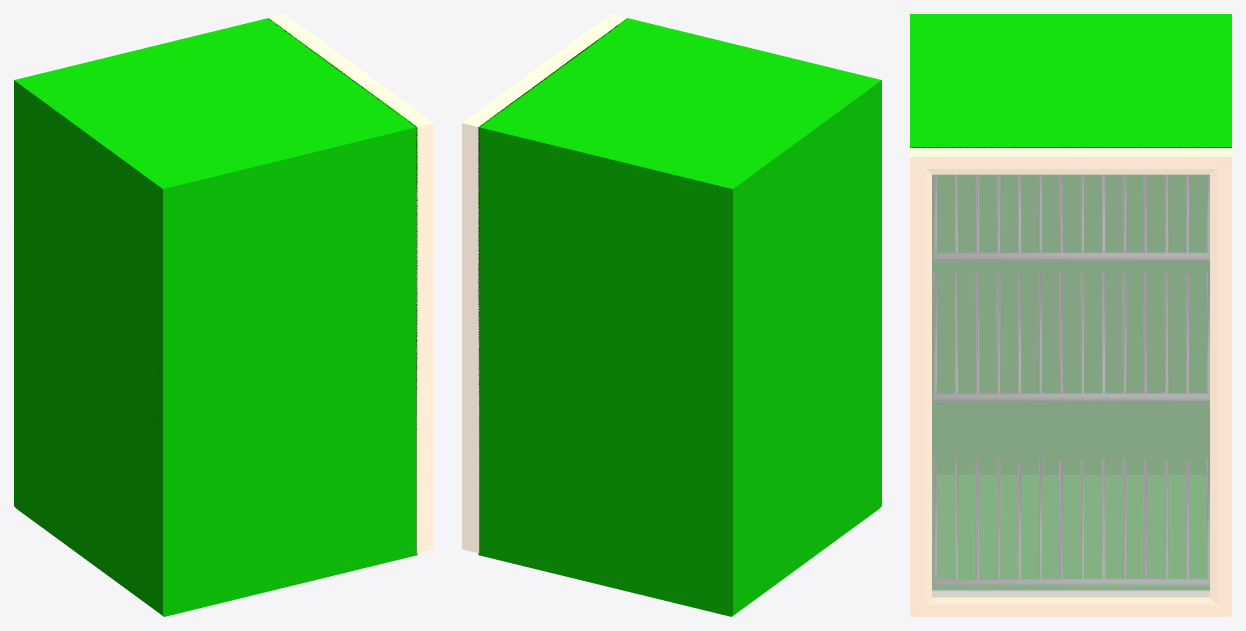
Rendered from Fridge_Edited_NoCans.gltf.
3 renders of one model, left to right at view 1: azimuth 30°, elevation 25°; view 2: azimuth 150°, elevation 25°; view 3: azimuth 270°, elevation 25°, orthographic. The views are drawn at different scales.
Parts seen in each view (by area): view 1: fridge_17; view 2: fridge_17; view 3: fridge_17, fridge_17.004, fridge_17.005.
Boxes of the visible parts, x1,y1,x2,y2 form: fridge_17: [14, 14, 433, 616]; fridge_17: [462, 14, 881, 616]; fridge_17: [910, 14, 1231, 616]; fridge_17.004: [934, 272, 1209, 401]; fridge_17.005: [934, 457, 1209, 585].
Bounding box in the file's own units: 1.42 × 2.14 × 1.35.
Materials: 7 (2 with a texture image).
